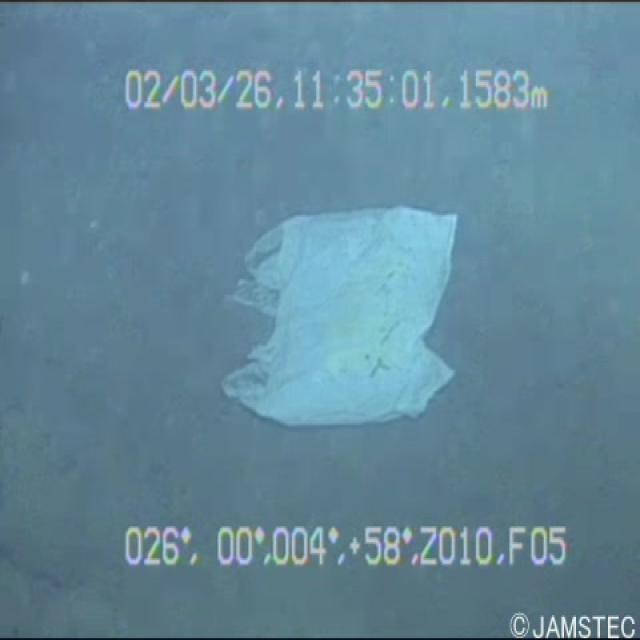plastic: (196, 172, 465, 457)
